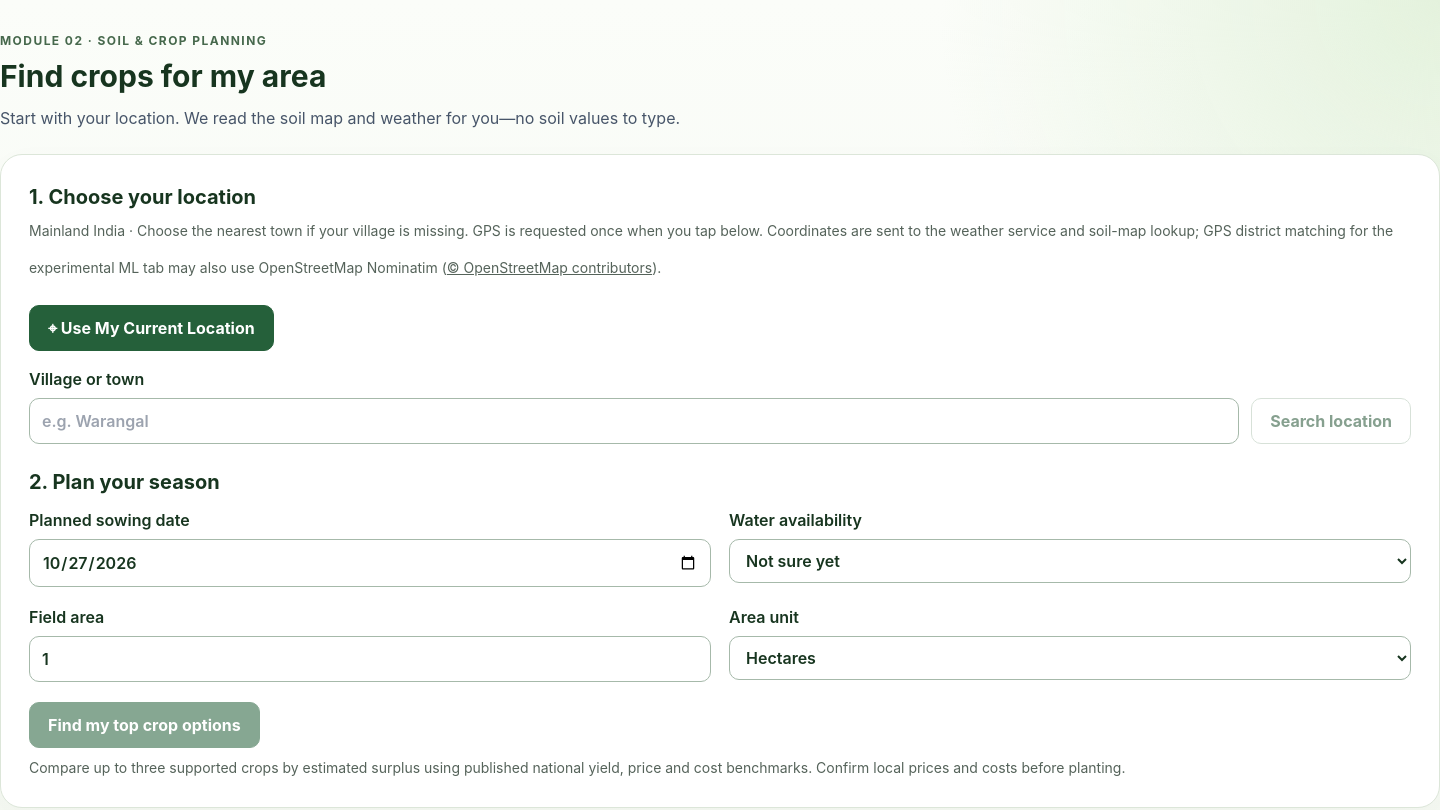
Test case: location crop planning › cancels a pending lookup and ignores its late response
In the field labelled "Village or town": x=634, y=421 [29, 398, 1239, 444], type "Warangal"
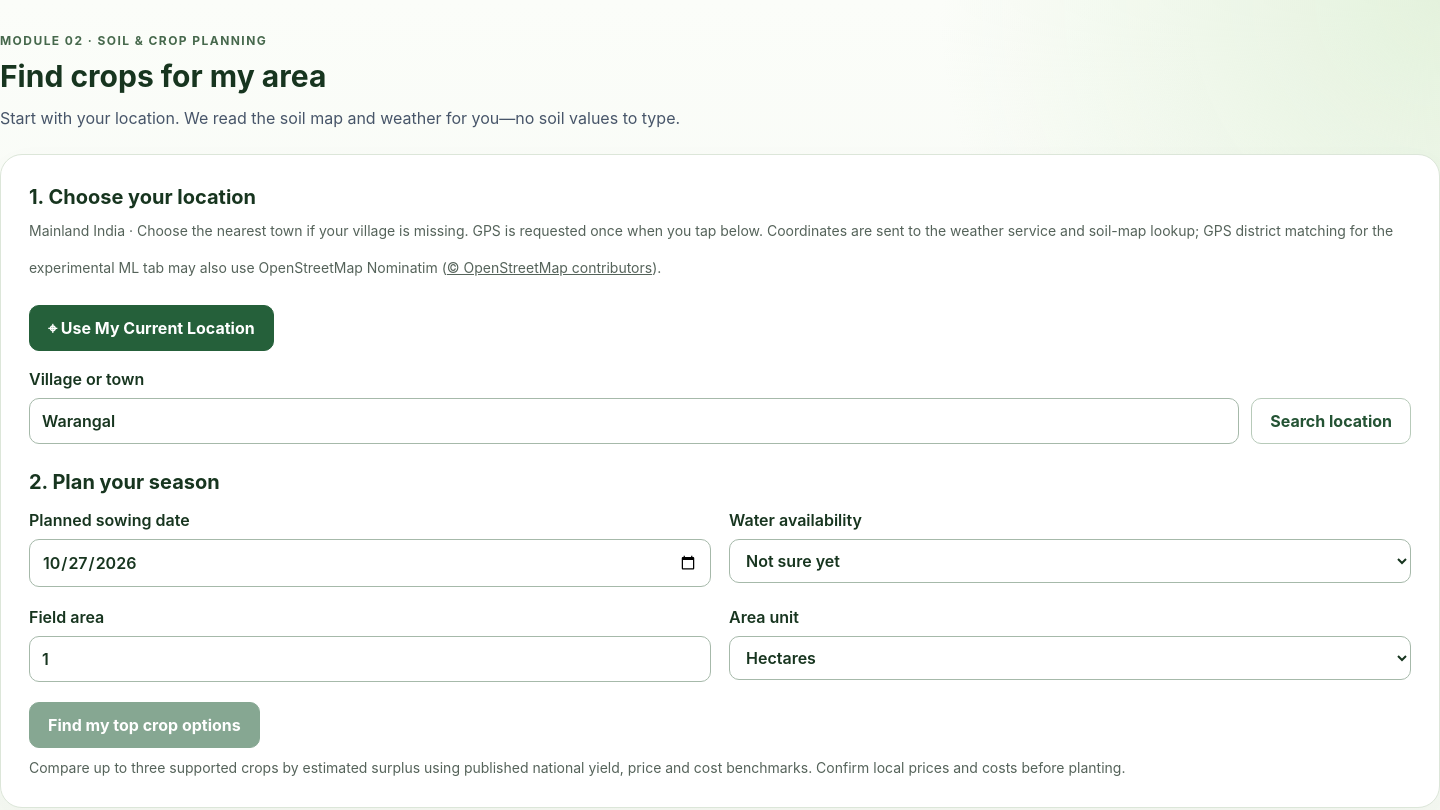
Click the button "Search location": x=1331, y=421 [1251, 398, 1411, 444]
(page scrolled)
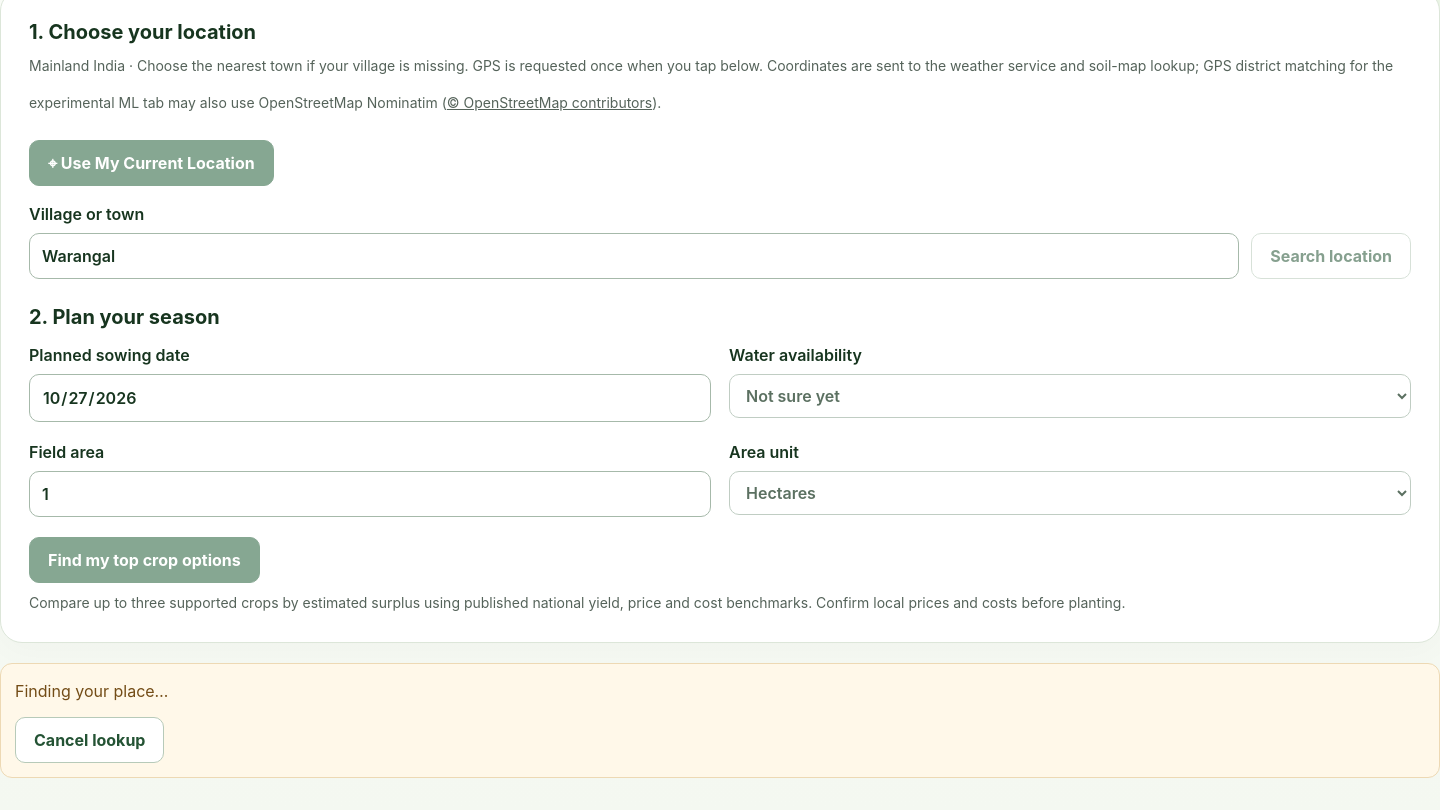
Click the button "Cancel lookup": x=90, y=740 [15, 718, 164, 764]
(page scrolled)
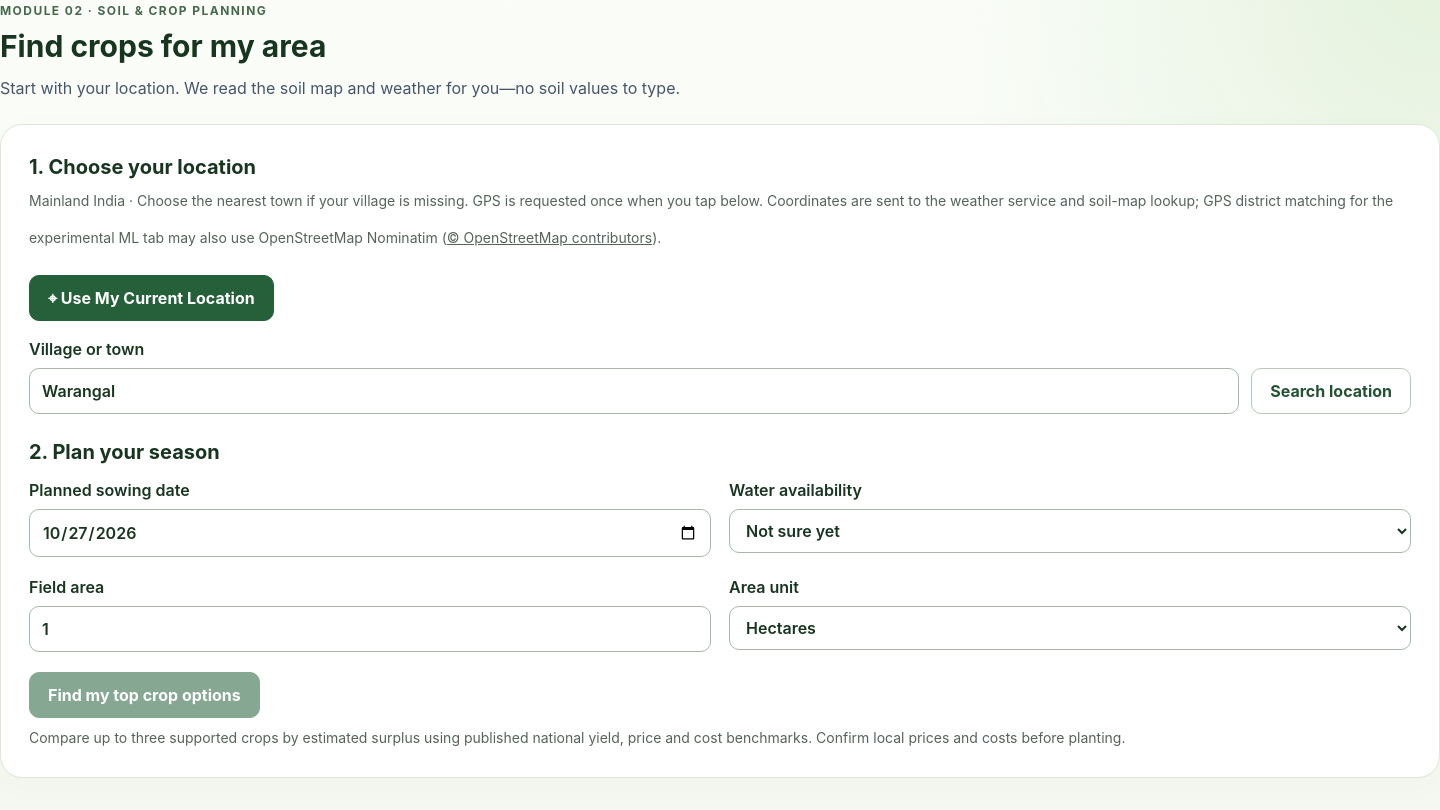
Now the button "Search location" is enabled, box [1251, 368, 1411, 414]
